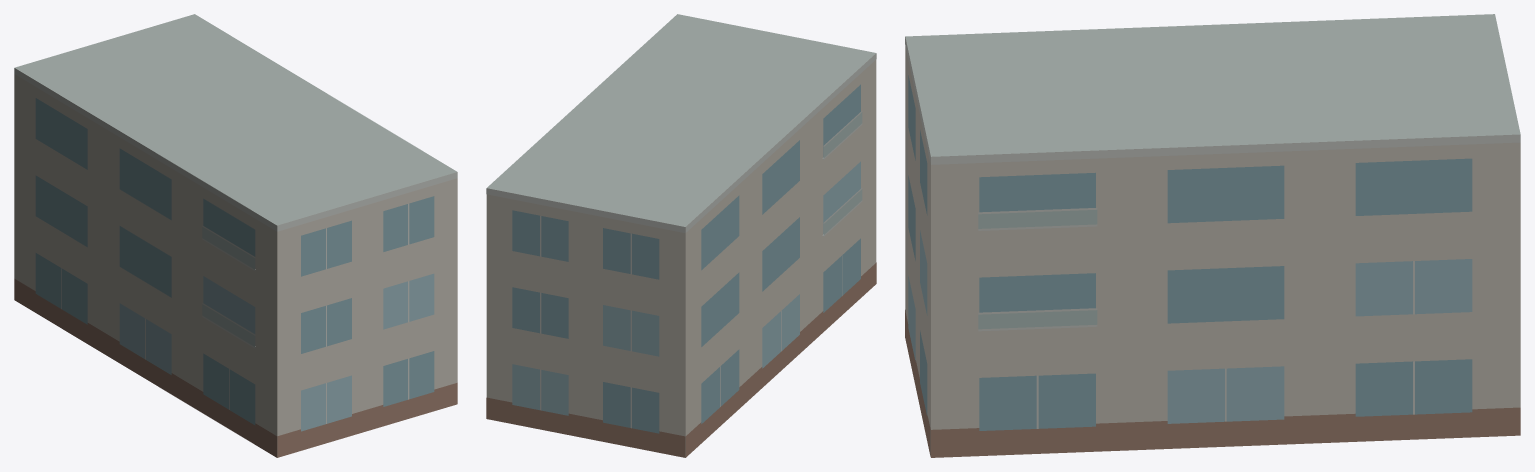
The model's file is survey-upis-32702348.glb.
3 renders of one model, left to right at view 1: azimuth 30°, elevation 25°; view 2: azimuth 150°, elevation 25°; view 3: azimuth 270°, elevation 25°, orthographic. The views are drawn at different scales.
Visible parts, largest first — view 1: survey-upis-32702348.tmp; view 2: survey-upis-32702348.tmp; view 3: survey-upis-32702348.tmp.
Part boxes in pixels (<box>): survey-upis-32702348.tmp: <box>14,14,457,457</box>; survey-upis-32702348.tmp: <box>486,14,876,457</box>; survey-upis-32702348.tmp: <box>905,14,1520,457</box>.
Size of the model in its own units: 9.32 by 9.15 by 16.96.
